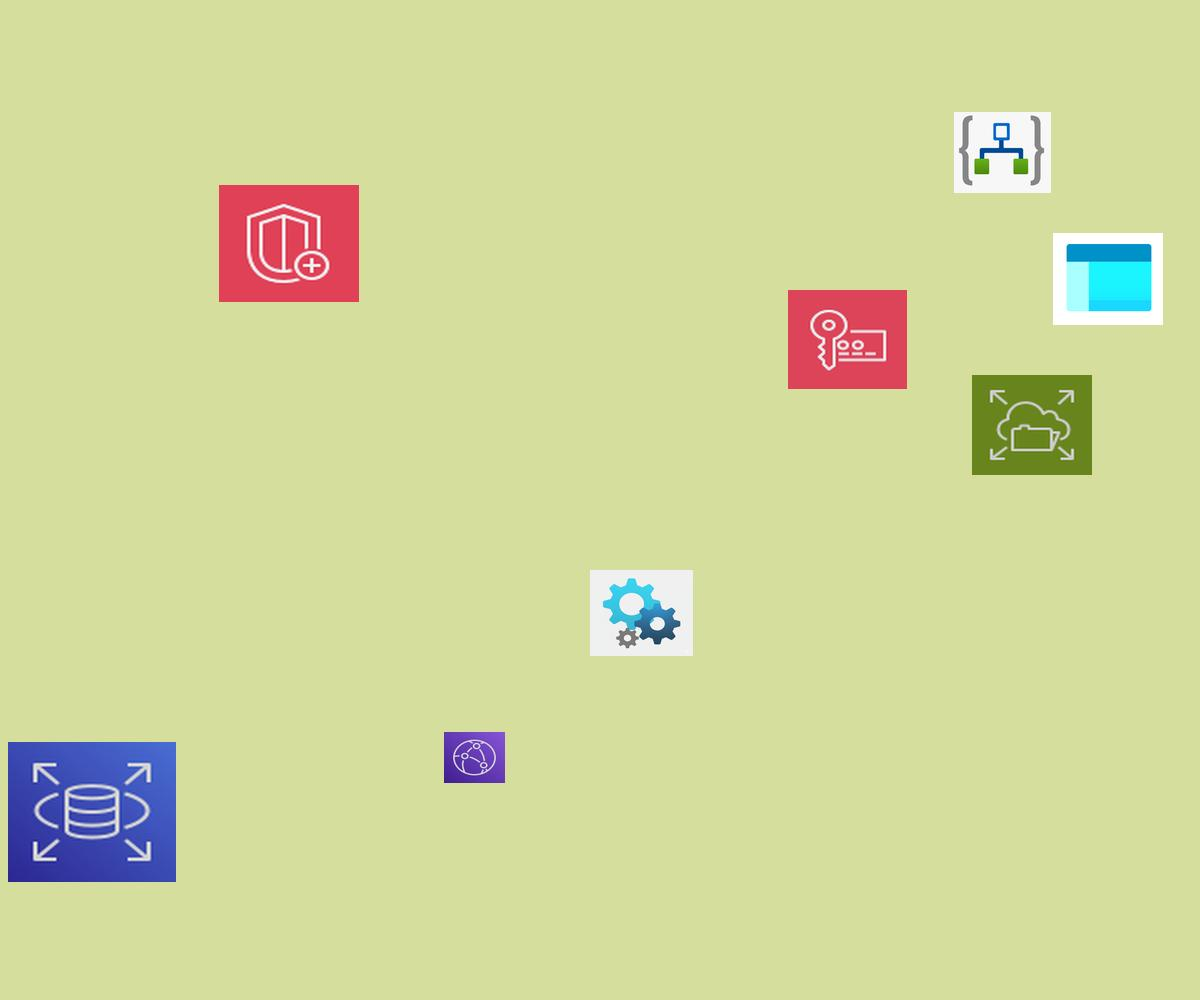AWS-CloudFront: (444, 732, 505, 783)
AWS-EFS: (972, 375, 1092, 475)
AWS-Key-Management-Service: (788, 290, 907, 389)
AWS-RDS: (8, 742, 176, 882)
AWS-Shield: (219, 185, 359, 302)
Azure_api: (590, 570, 693, 656)
Azure_integration-204-Logic-Apps: (954, 112, 1051, 193)
Azure_management-portal: (1053, 233, 1163, 325)
